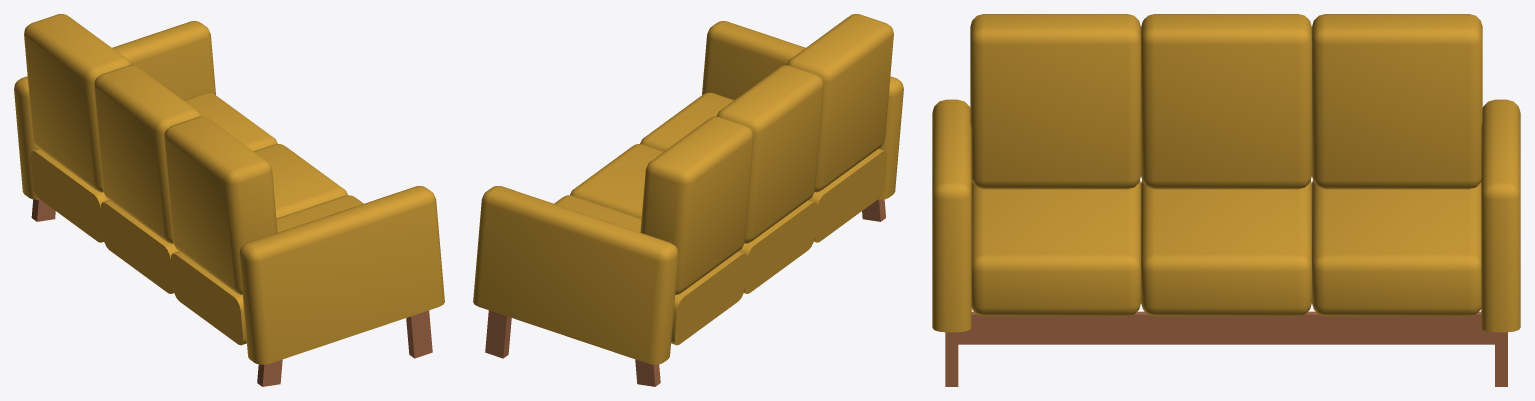
File: Couch.fbx
3 renders of one model, left to right at view 1: azimuth 30°, elevation 25°; view 2: azimuth 150°, elevation 25°; view 3: azimuth 270°, elevation 25°, orthographic. The views are drawn at different scales.
Parts seen in each view (by area): view 1: Cube.034, Cube.041, Cube.040, Cube.043; view 2: Cube.034, Cube.044, Cube.043, Cube.040; view 3: Cube.034, Cube.042, Cube.041, Cube.044.
Part boxes in pixels (x1=…): Cube.034: x1=14, y1=14, x2=444, y2=364; Cube.041: x1=406, y1=310, x2=432, y2=358; Cube.040: x1=257, y1=359, x2=282, y2=386; Cube.043: x1=31, y1=199, x2=55, y2=221; Cube.034: x1=473, y1=14, x2=903, y2=364; Cube.044: x1=485, y1=310, x2=511, y2=358; Cube.043: x1=635, y1=359, x2=660, y2=386; Cube.040: x1=862, y1=199, x2=885, y2=221; Cube.034: x1=932, y1=14, x2=1520, y2=332; Cube.042: x1=958, y1=311, x2=1494, y2=344; Cube.041: x1=945, y1=332, x2=958, y2=386; Cube.044: x1=1495, y1=332, x2=1507, y2=386.
Size of the model in its own units: 53.32 by 55.22 by 110.
